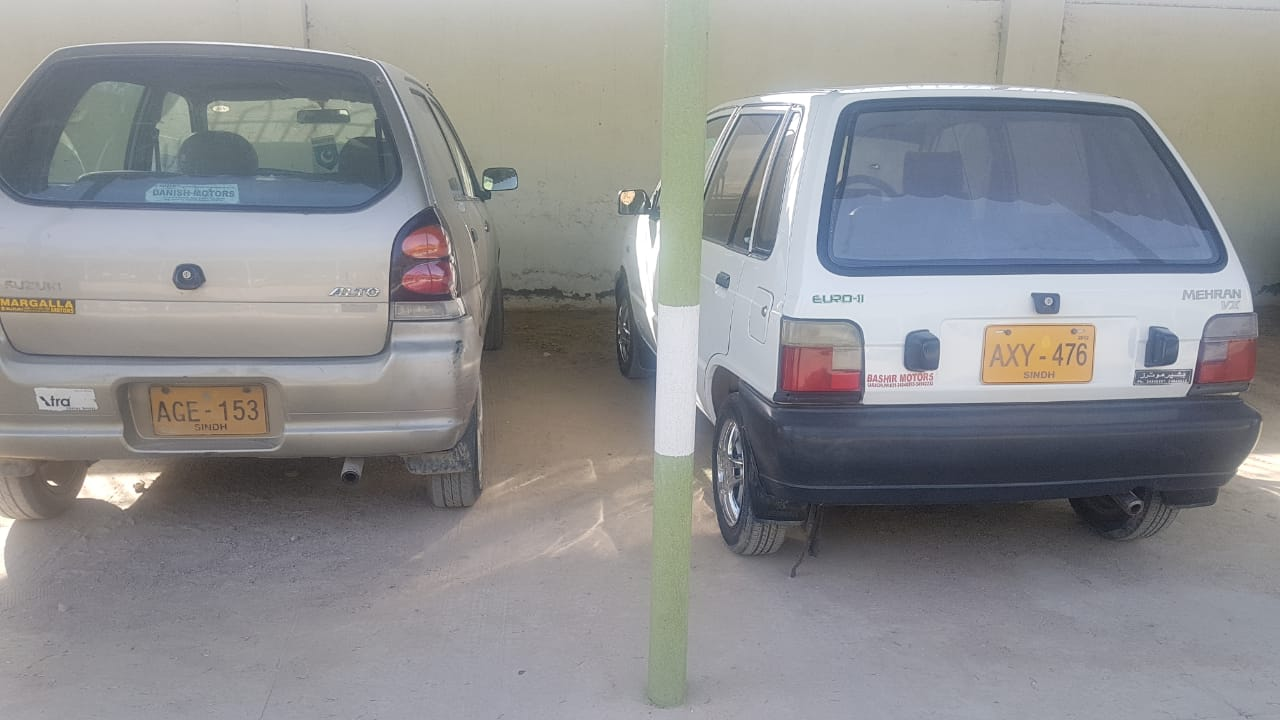license plate: (981, 322, 1096, 388), (149, 383, 272, 439)
